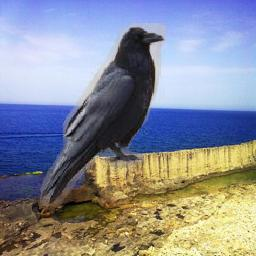Crow: (38, 24, 166, 207)
